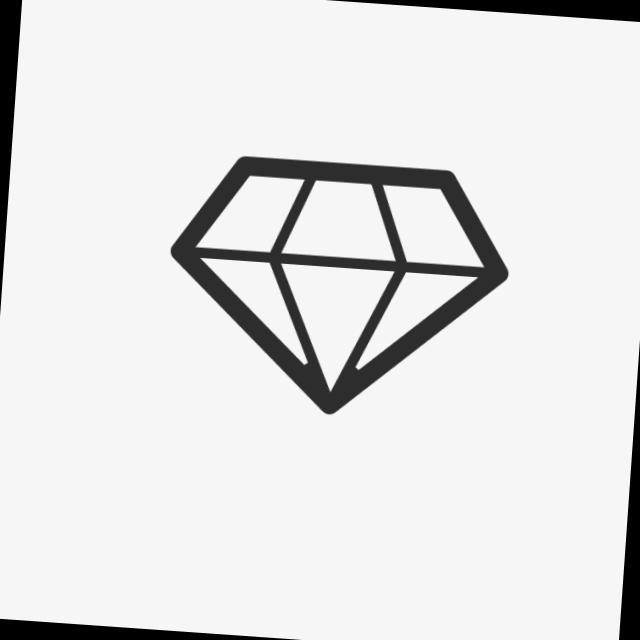diamond: (154, 147, 520, 435)
